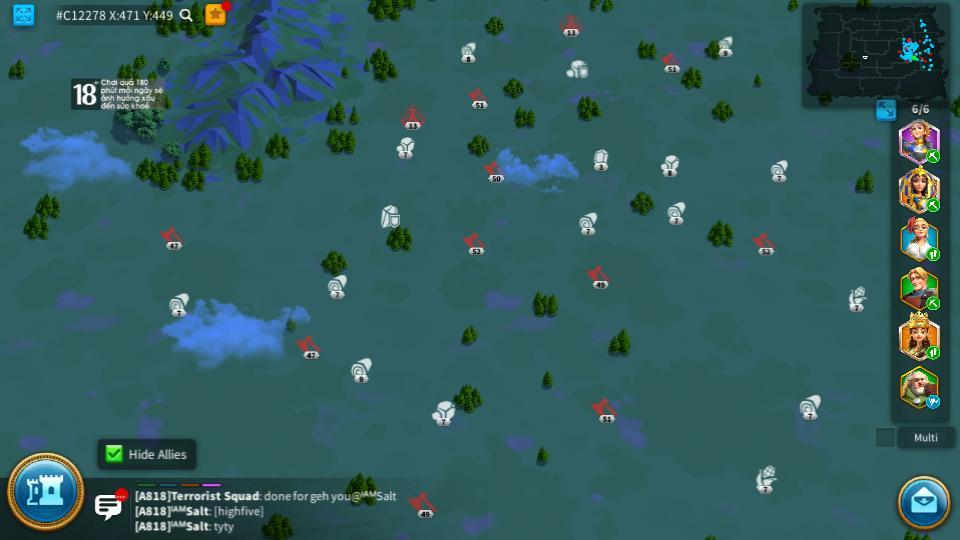gem-z-out: (591, 148, 609, 170)
march_idle: (925, 396, 942, 408)
march_marching: (925, 197, 941, 212), (926, 345, 941, 359), (925, 150, 942, 162), (926, 297, 941, 308), (926, 250, 941, 261)
